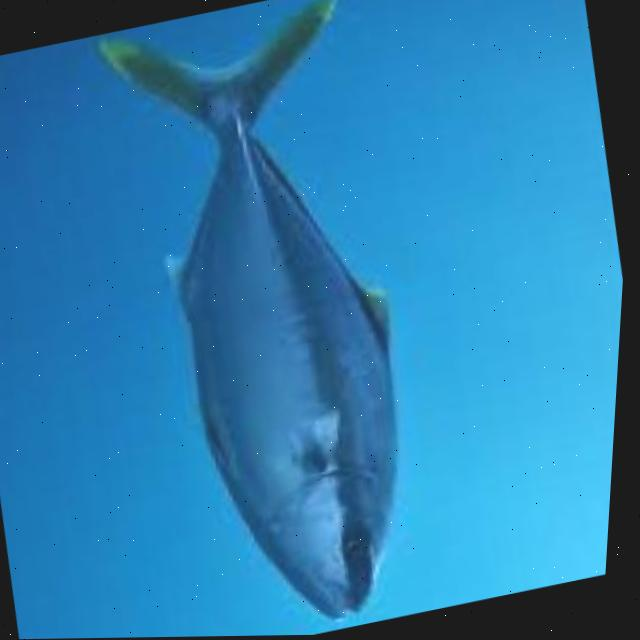Kingfish: (56, 0, 471, 639)
